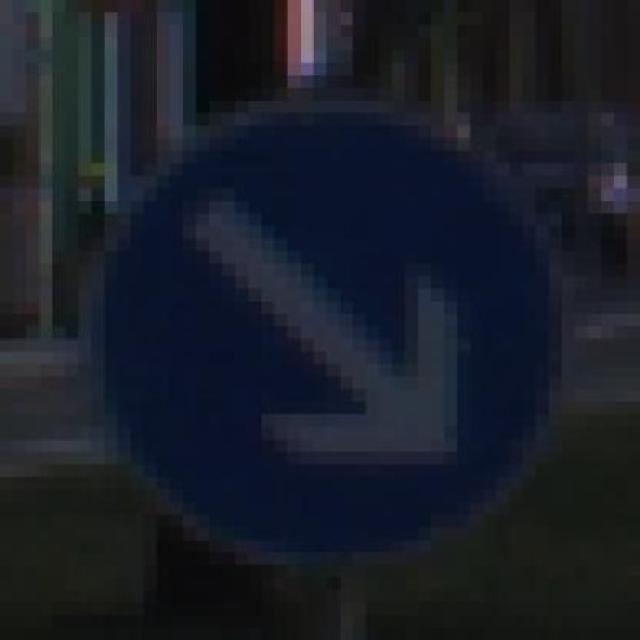Keep-Right: (78, 76, 574, 564)
